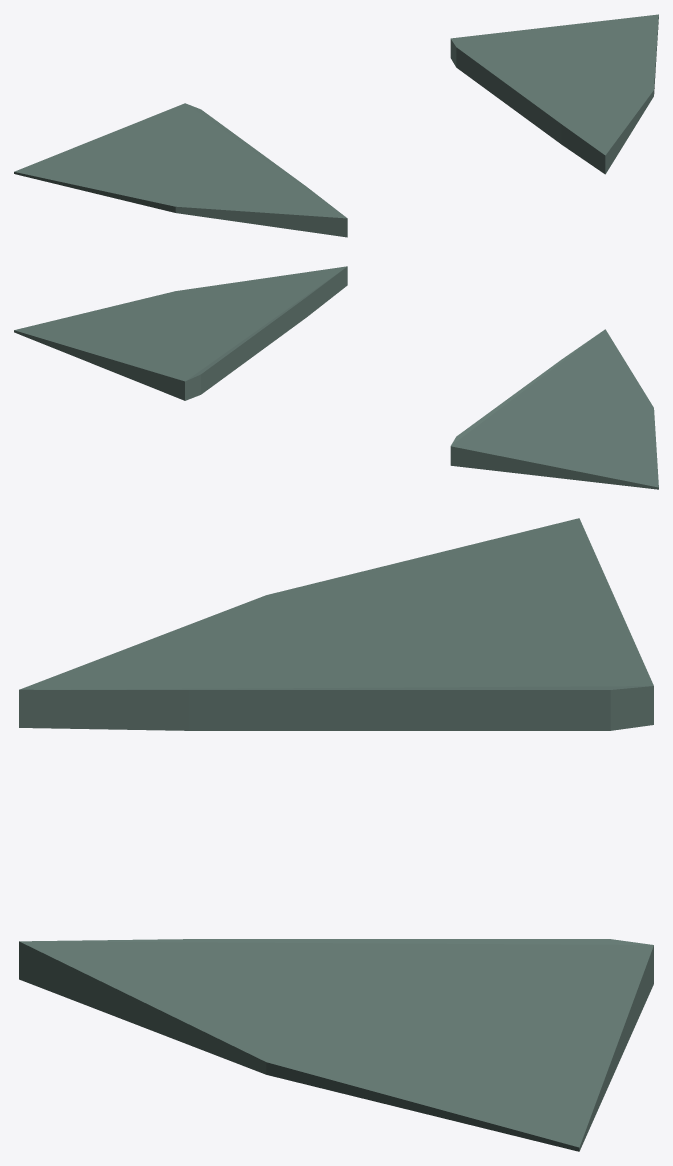
Rendered from wingV3.fbx.
3 views of the same model, one above another, from view 1: azimuth 30°, elevation 25°; view 2: azimuth 150°, elevation 25°; view 3: azimuth 270°, elevation 25° (orthographic). The views are drawn at different scales.
Parts seen in each view (by area): view 1: MainWing_Mesh_V3; view 2: MainWing_Mesh_V3; view 3: MainWing_Mesh_V3.
Part boxes in pixels (box(x1,y1,x2,y2)): MainWing_Mesh_V3: box(14, 14, 658, 237); MainWing_Mesh_V3: box(14, 266, 658, 489); MainWing_Mesh_V3: box(19, 518, 653, 1151).
Bounding box in the file's own units: 301 × 9.11 × 128.
